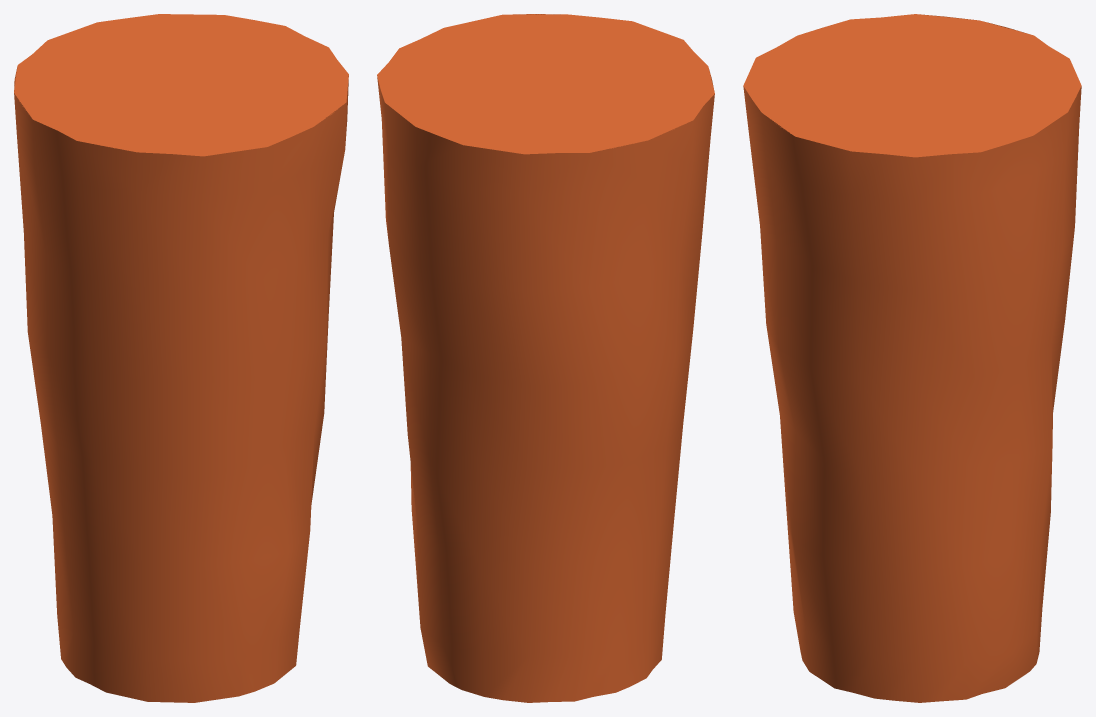
The model's file is carrot2.fbx.
3 views of the same model, side by side, from view 1: azimuth 30°, elevation 25°; view 2: azimuth 150°, elevation 25°; view 3: azimuth 270°, elevation 25° (orthographic).
Visible parts, largest first — view 1: Cylinder.003; view 2: Cylinder.003; view 3: Cylinder.003.
Part boxes in pixels (x1=…): Cylinder.003: x1=14, y1=14, x2=348, y2=702; Cylinder.003: x1=377, y1=14, x2=714, y2=702; Cylinder.003: x1=743, y1=14, x2=1081, y2=702.
Bounding box in the file's own units: 66.62 × 123 × 66.41.
